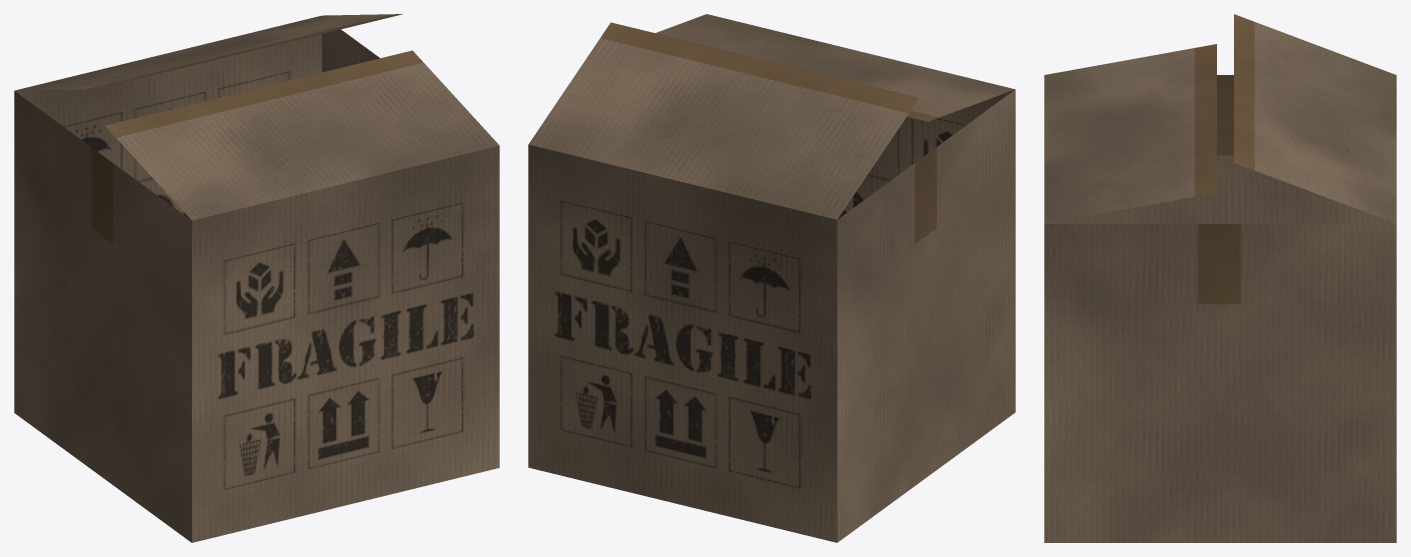
The model's file is caixa.FBX.
3 views of the same model, side by side, from view 1: azimuth 30°, elevation 25°; view 2: azimuth 150°, elevation 25°; view 3: azimuth 270°, elevation 25° (orthographic).
Parts seen in each view (by area): view 1: Box001; view 2: Box001; view 3: Box001.
Part boxes in pixels (box(x1,y1,x2,y2)): Box001: box(14, 14, 499, 542); Box001: box(528, 14, 1015, 542); Box001: box(1044, 14, 1396, 542).
Size of the model in its own units: 26.01 by 30.99 by 26.01.
Materials: 1 (1 with a texture image).
